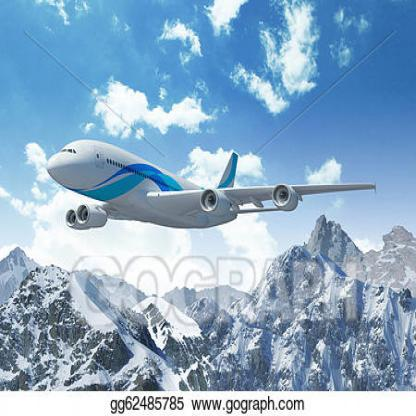CIV_Plane: (30, 132, 378, 240)
